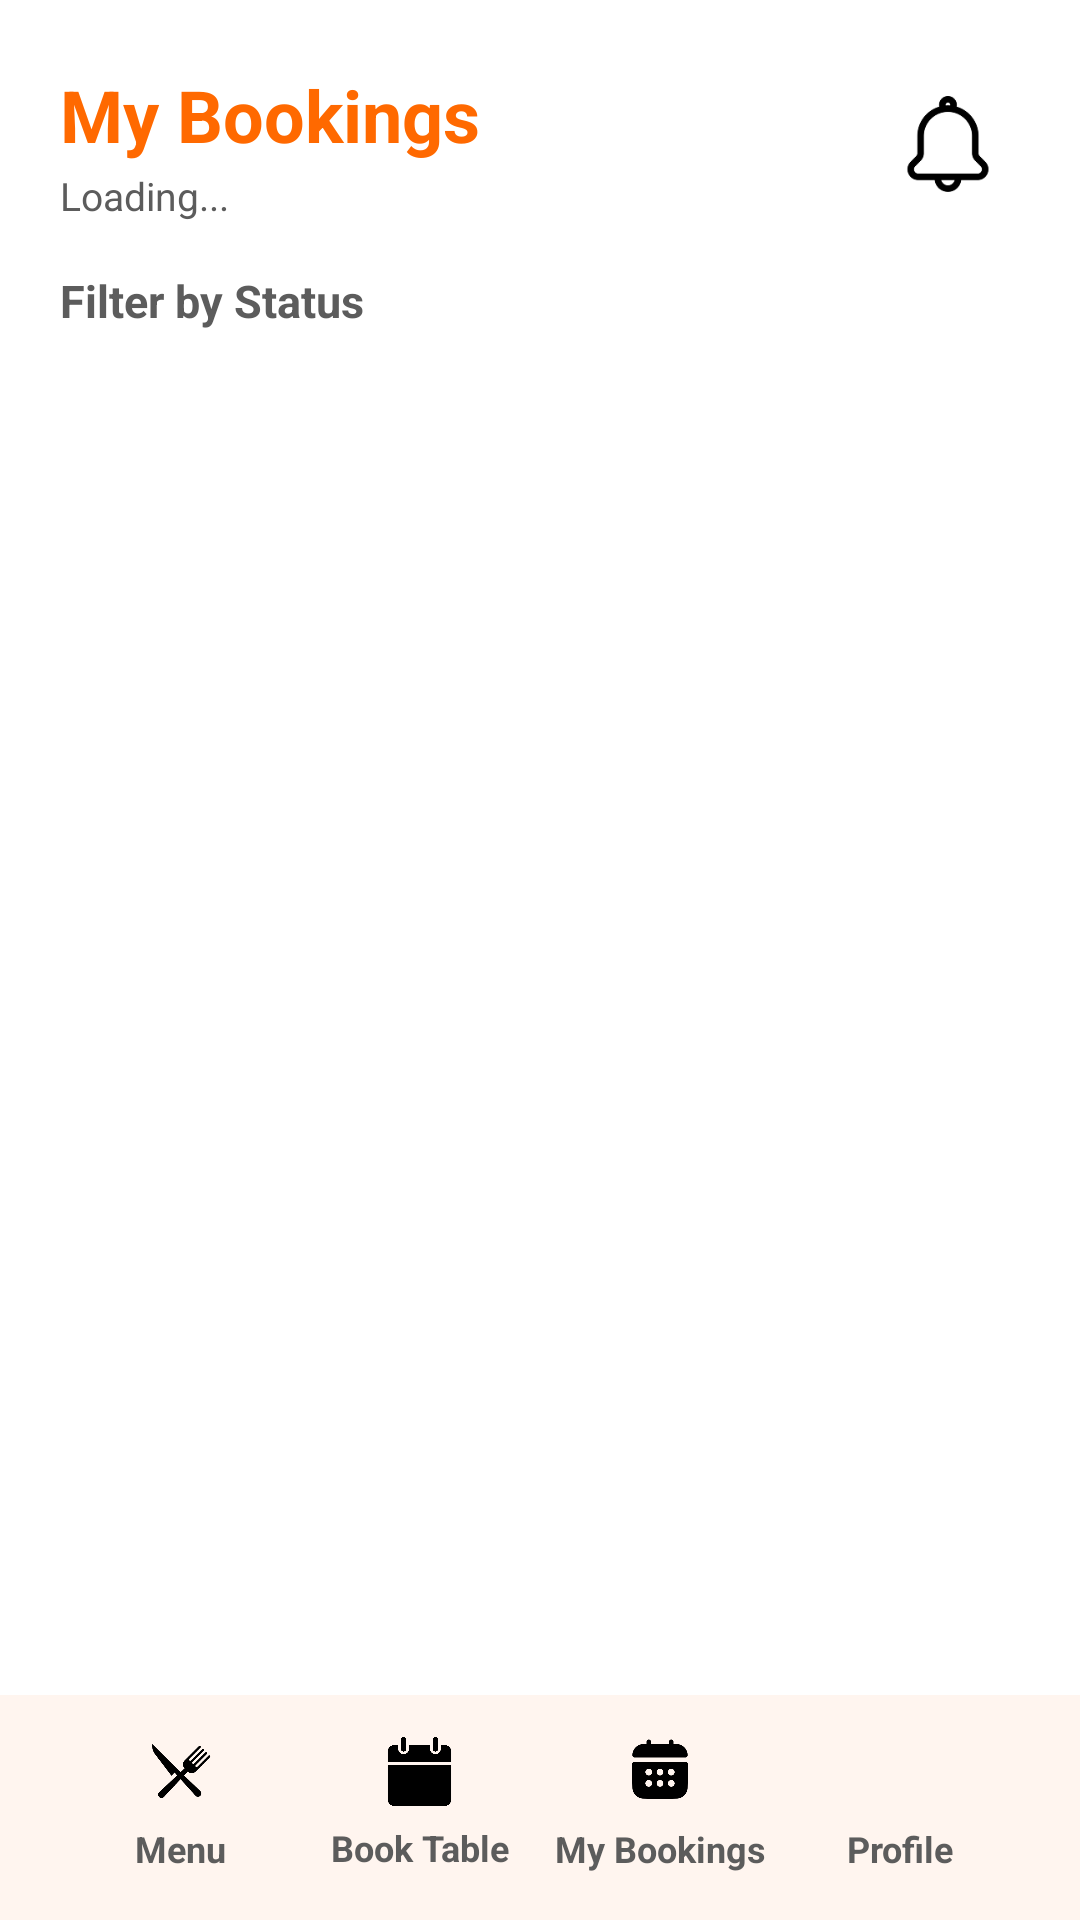

Named icons in this screenshot (1080px×1920px) and their centers, (x,y):
Notifications: (948,144)
